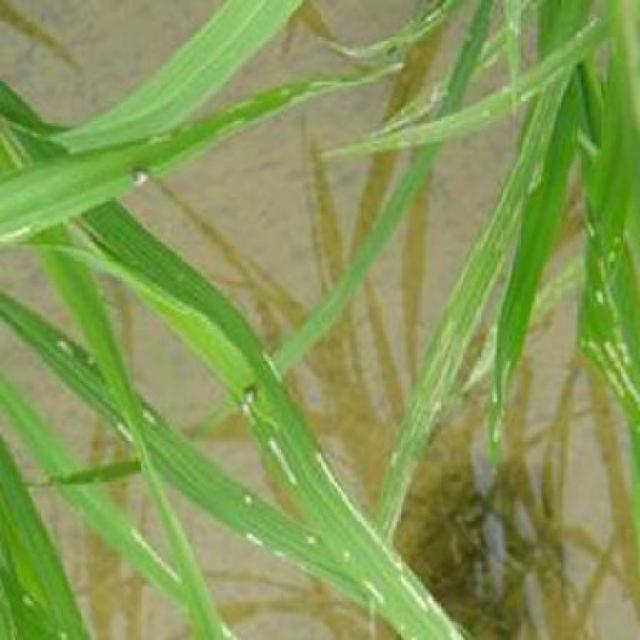rice-bug: (243, 382, 260, 403), (136, 164, 150, 184)
